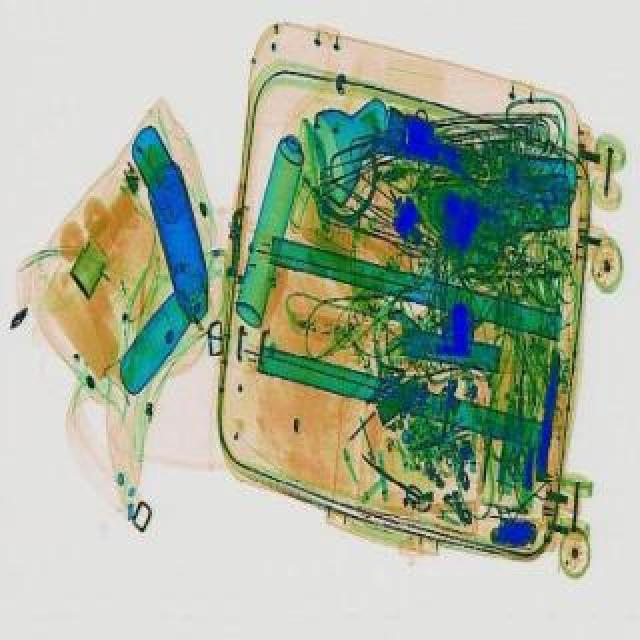pliers: (352, 446, 426, 502)
